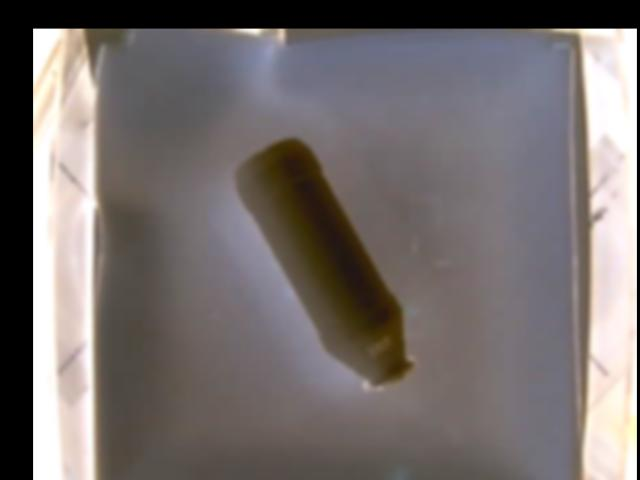Bottle: (235, 136, 411, 389)
